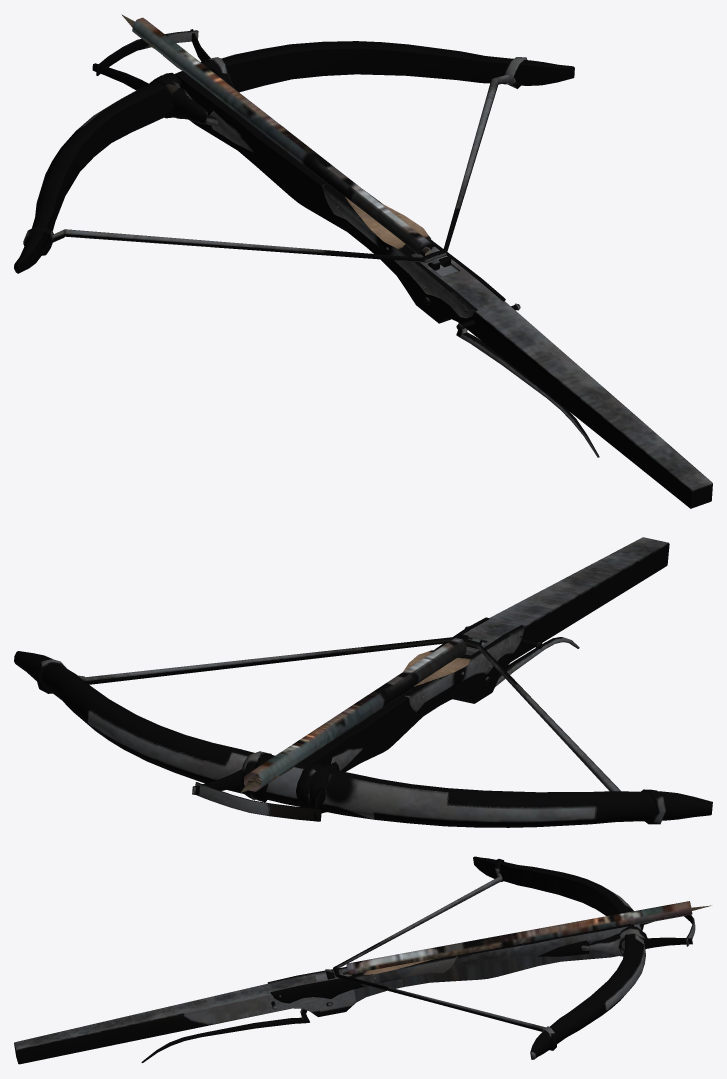
3 renders of one model, top to bottom at view 1: azimuth 30°, elevation 25°; view 2: azimuth 150°, elevation 25°; view 3: azimuth 270°, elevation 25°, orthographic. The views are drawn at different scales.
Parts seen in each view (by area): view 1: mesh_0; view 2: mesh_0; view 3: mesh_0.
Part boxes in pixels (bbox=[...]): mesh_0: bbox=[14, 14, 712, 508]; mesh_0: bbox=[14, 537, 712, 827]; mesh_0: bbox=[14, 856, 711, 1064].
Bounding box in the file's own units: 30.95 × 9.04 × 43.22.
Materials: 1 (1 with a texture image).
